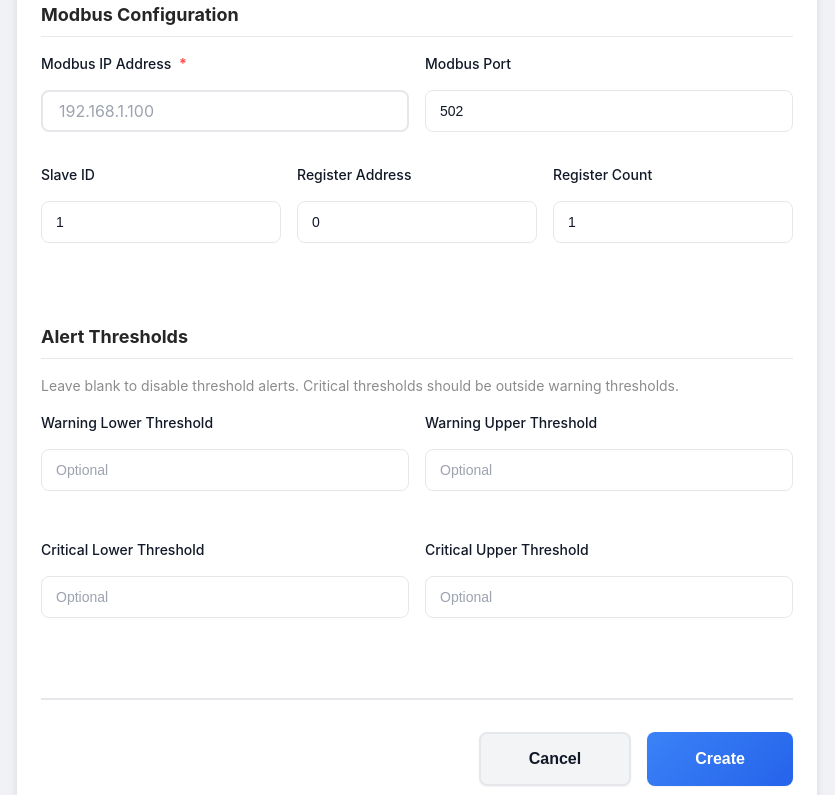
Test: DeviceForm Component › Validation › should clear validation errors when field is corrected
The image size is (835, 795).
(page scrolled)
Submit empty form to trigger validation
Click the button "Create" at (720, 759), box [647,732,793,786]
(page scrolled)
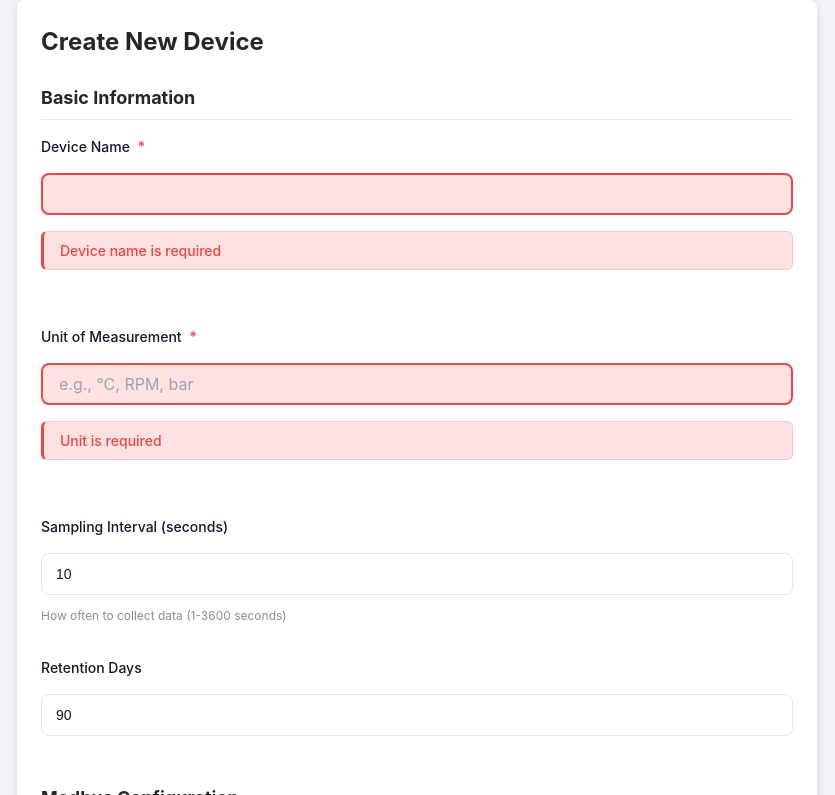
Check: the text "Device name is required" is shown, box [41,231,793,270]
Correct the field
Type "Corrected Name" into the field labelled "Device Name *" at (417, 194), box [41,173,793,215]
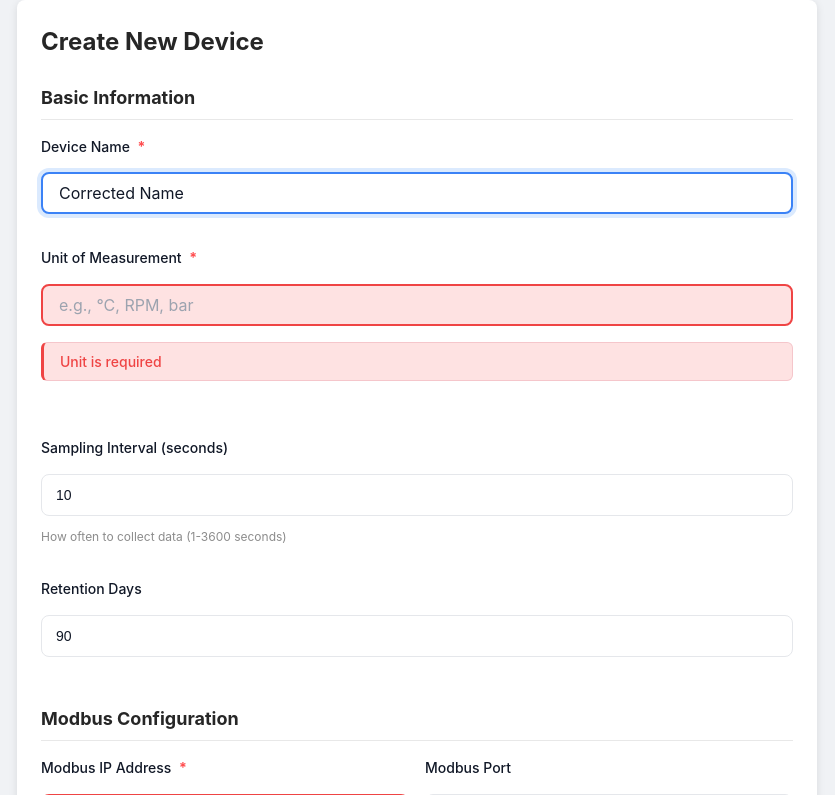
Check: the text "Device name is required" is gone
